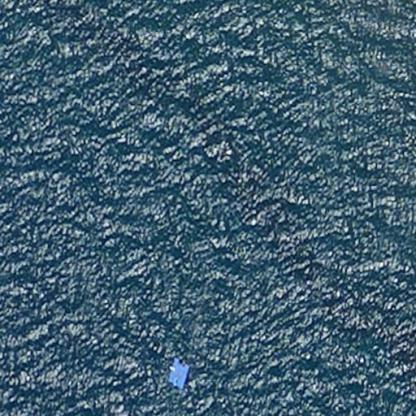ship: (0, 357, 24, 390)
